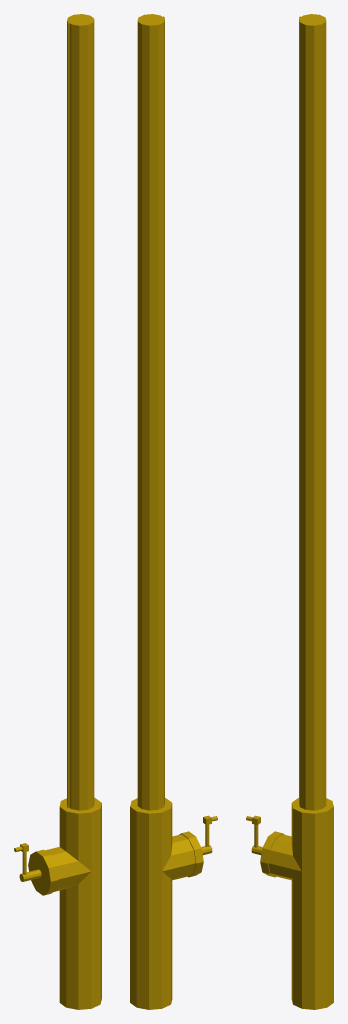
File: maxRod.gltf
The picture shows the model from 3 angles, left to right: view 1: azimuth 30°, elevation 25°; view 2: azimuth 210°, elevation 25°; view 3: azimuth 330°, elevation 25°; orthographic projection.
Visible parts, largest first — view 1: Cylinder; view 2: Cylinder; view 3: Cylinder.
Part boxes in pixels (x1,y1,x2,y2): Cylinder: (14,14,101,1009); Cylinder: (130,14,217,1009); Cylinder: (246,14,333,1009).
Size of the model in its own units: 4.45 by 50 by 2.1.
